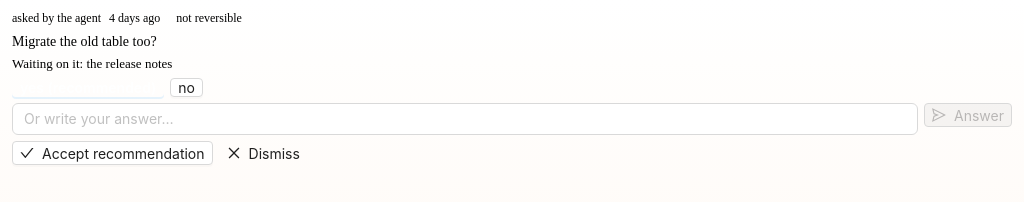
Test: QuestionCard › a 409 is shown as its message
Step 1. Click the button "Accept recommendation" → (112, 153), box [12,141,212,165]
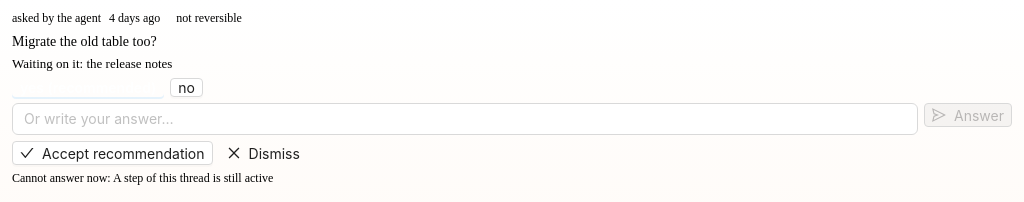
Result: the text "Cannot answer now: A step of this thread is still active" is shown at [12,171,273,185]
